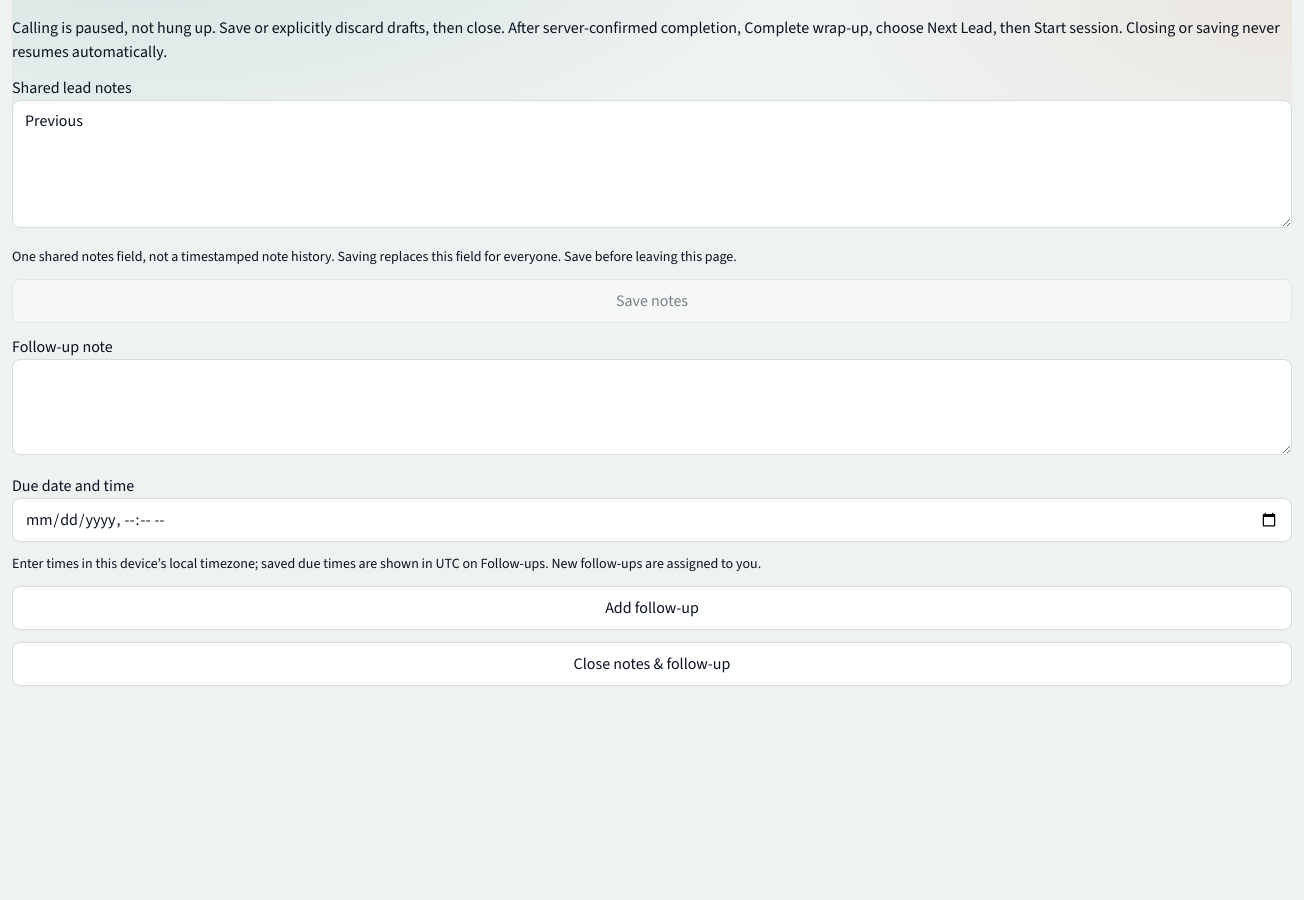
Test case: a pending task save times out without losing its draft or retrying
The image size is (1304, 900).
Expected: the text box labelled "Shared lead notes" is enabled, x1=12 y1=100 x2=1292 y2=228
In the text box labelled "Follow-up note": (652, 407) x1=12 y1=359 x2=1292 y2=455, type "Retain this draft"
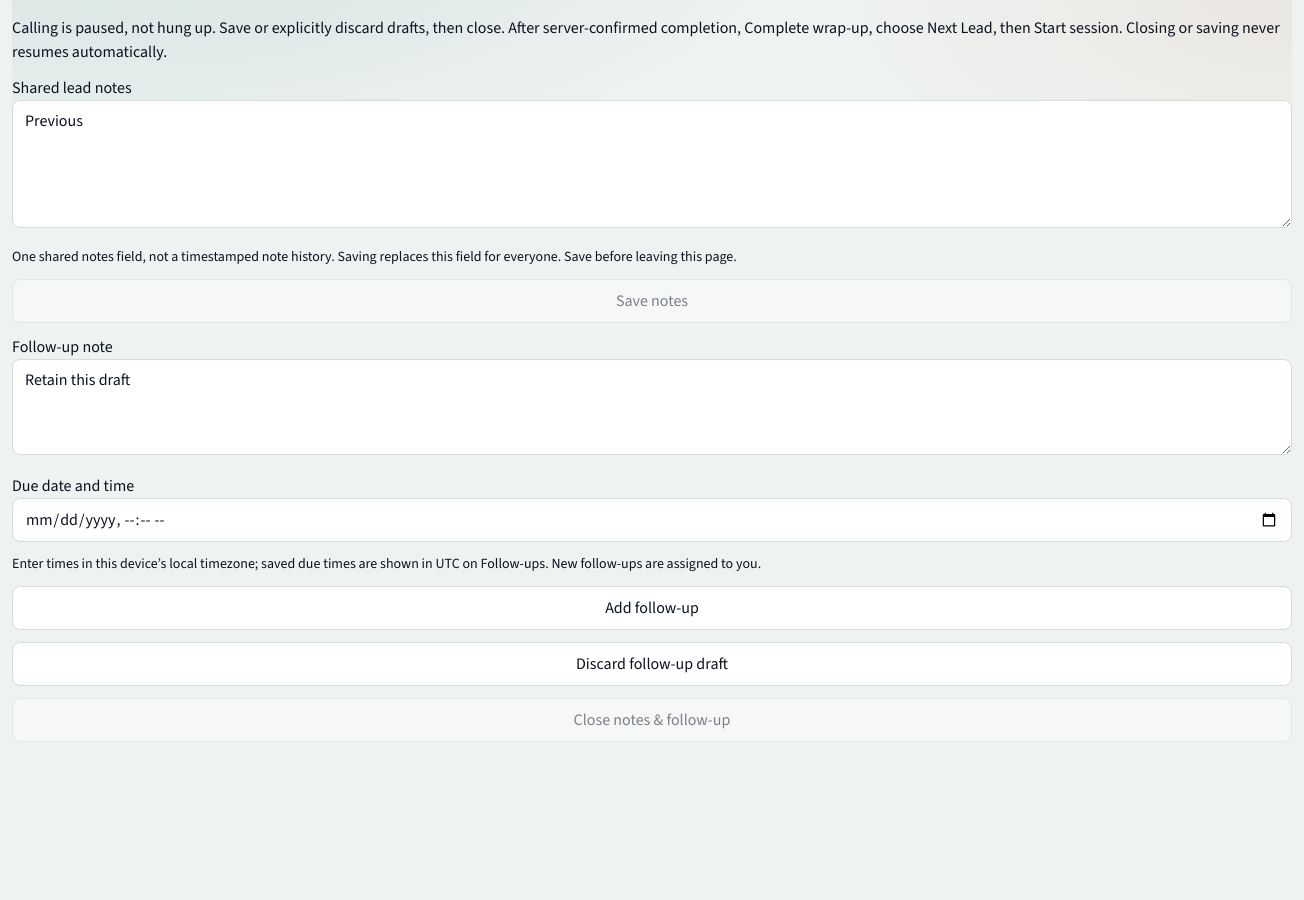
In the field labelled "Due date and time": (652, 520) x1=12 y1=498 x2=1292 y2=542, type "2026-11-05T14:30"
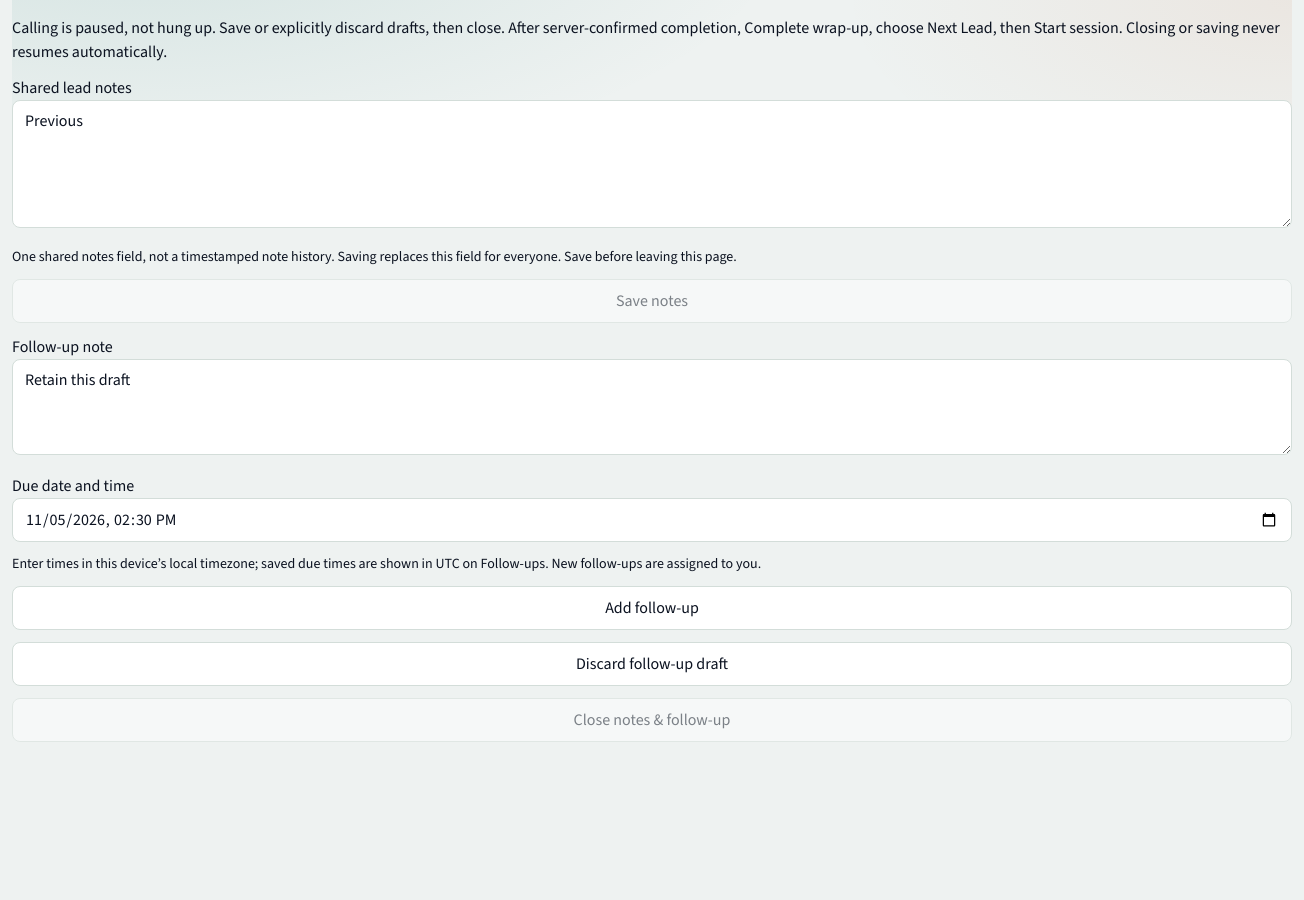
Click the button "Add follow-up": (652, 608) x1=12 y1=586 x2=1292 y2=630
Wait 13000 ms
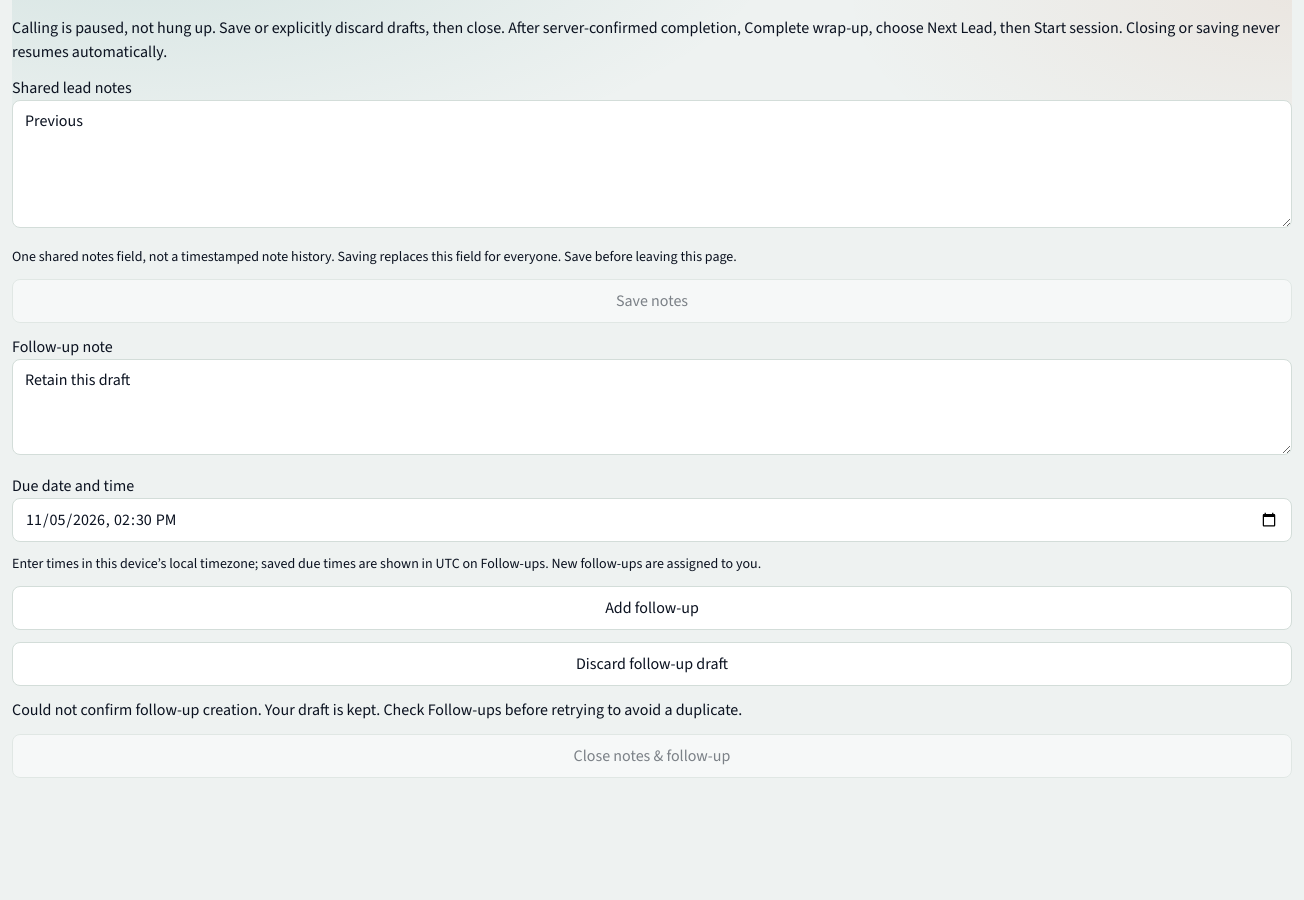
Expected: the button "Close notes & follow-up" is disabled, x1=12 y1=734 x2=1292 y2=778
Expected: the message shows "Could not confirm", x1=12 y1=699 x2=742 y2=720
